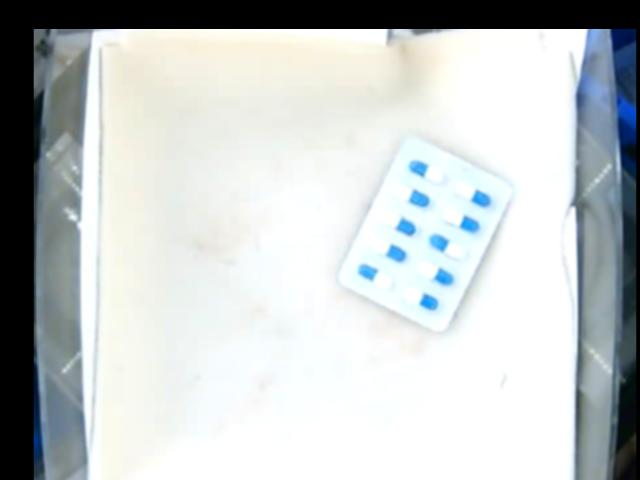Medicine: (335, 134, 512, 332)
